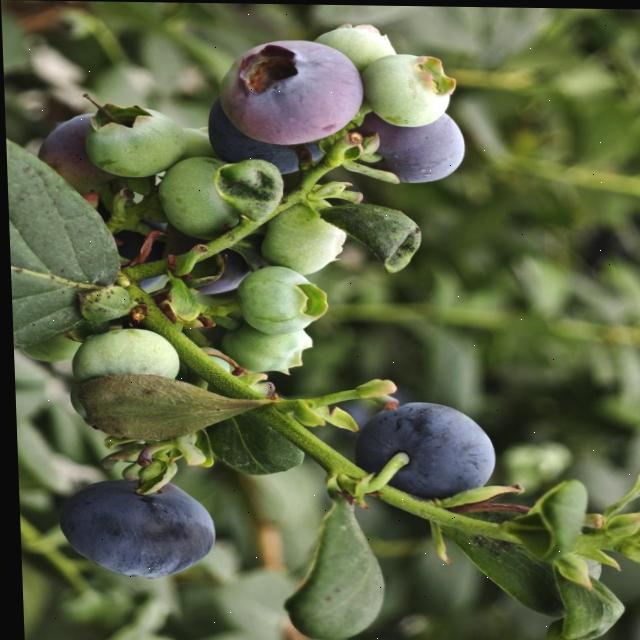RipeBlueBerry: (346, 398, 493, 496)
Semi-RipeBlueBerry: (53, 477, 216, 580), (221, 40, 360, 141)
UnripeBlueBerry: (84, 103, 187, 178), (366, 51, 458, 126), (238, 264, 328, 333)
